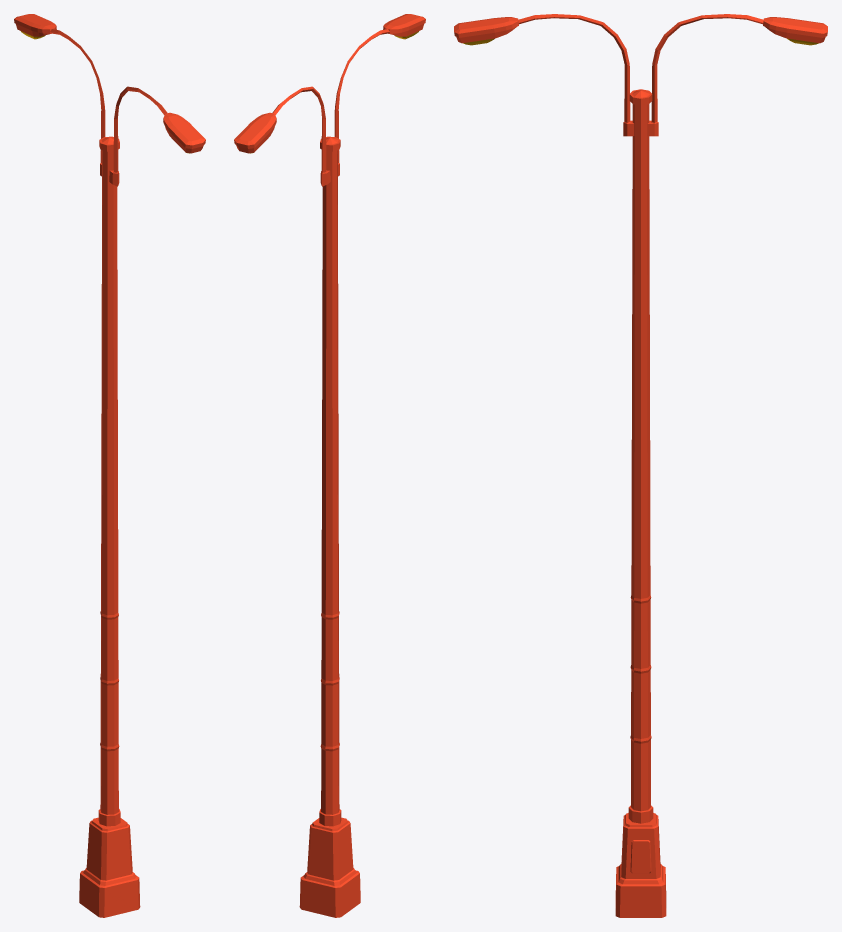
File: SM_Lamp_Street_D_City.fbx
The picture shows the model from 3 angles, left to right: view 1: azimuth 30°, elevation 25°; view 2: azimuth 150°, elevation 25°; view 3: azimuth 270°, elevation 25°; orthographic projection. The views are drawn at different scales.
Parts seen in each view (by area): view 1: SM_Lamp_Street_E_City; view 2: SM_Lamp_Street_E_City; view 3: SM_Lamp_Street_E_City.
Boxes of the visible parts, x1,y1,x2,y2 form: SM_Lamp_Street_E_City: [14, 14, 205, 917]; SM_Lamp_Street_E_City: [234, 14, 425, 917]; SM_Lamp_Street_E_City: [454, 14, 827, 917].
Bounding box in the file's own units: 0.3466 × 6.74 × 2.56.
